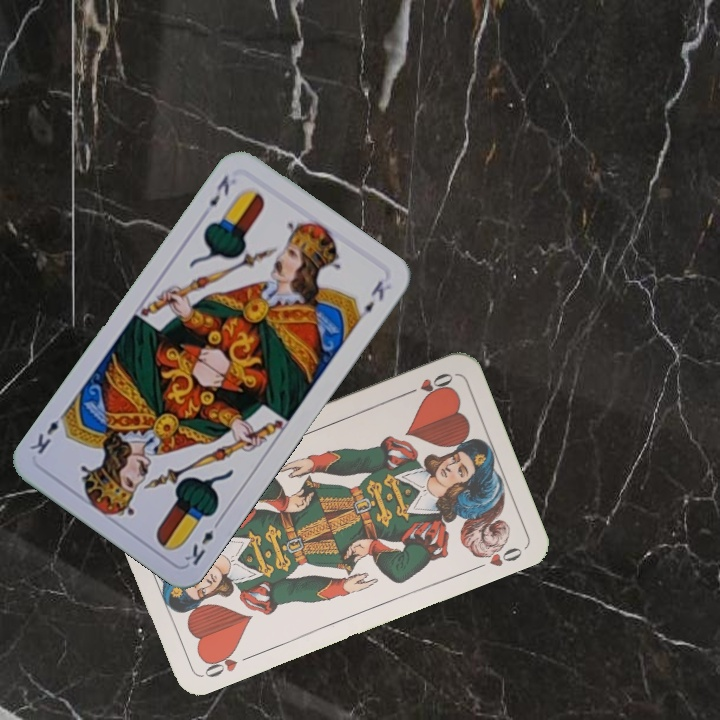EK: (180, 515, 224, 568), (205, 170, 232, 209)
HO: (199, 645, 255, 680), (400, 368, 456, 399)
